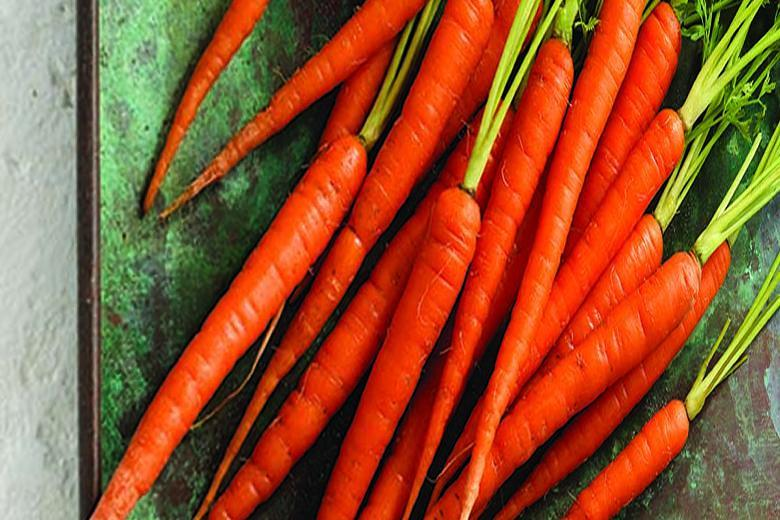carrot: (360, 4, 689, 520), (103, 128, 511, 520)
